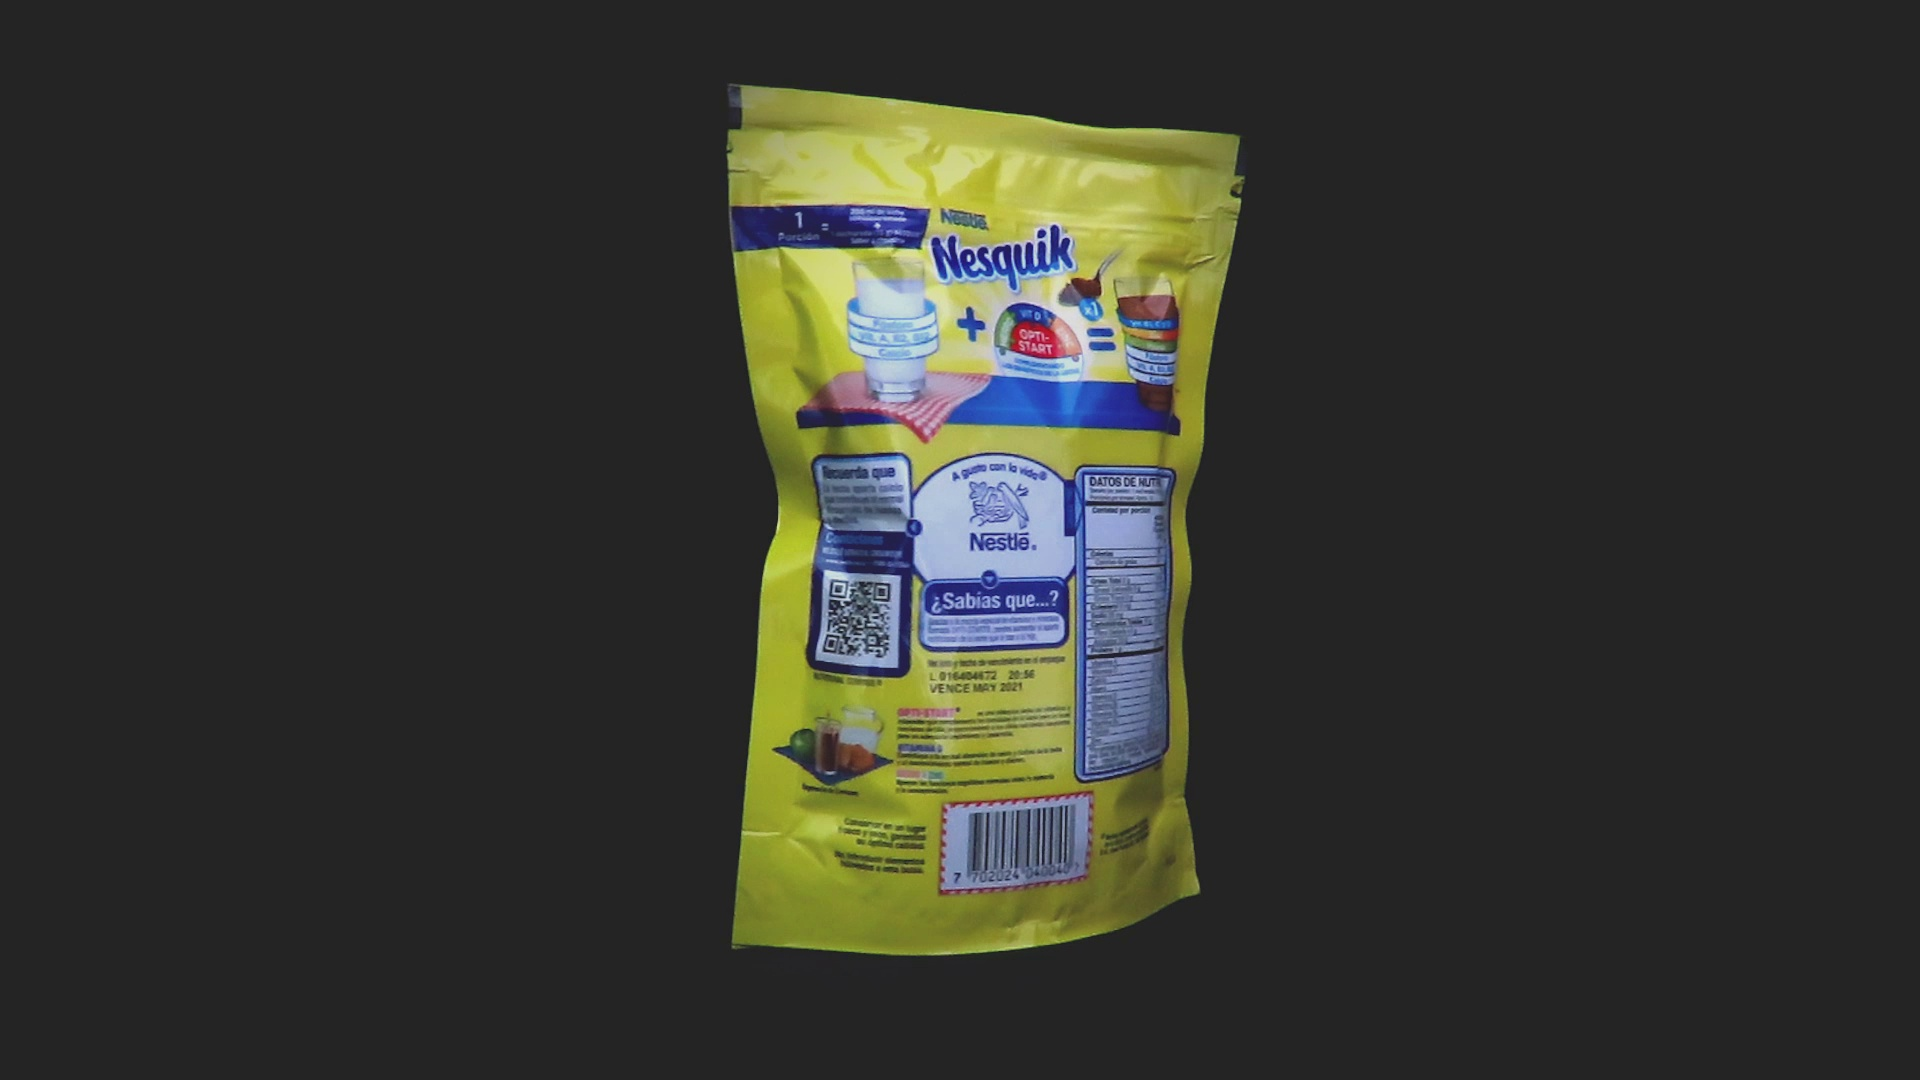COL0170303DYP20000: (721, 78, 1251, 963)
